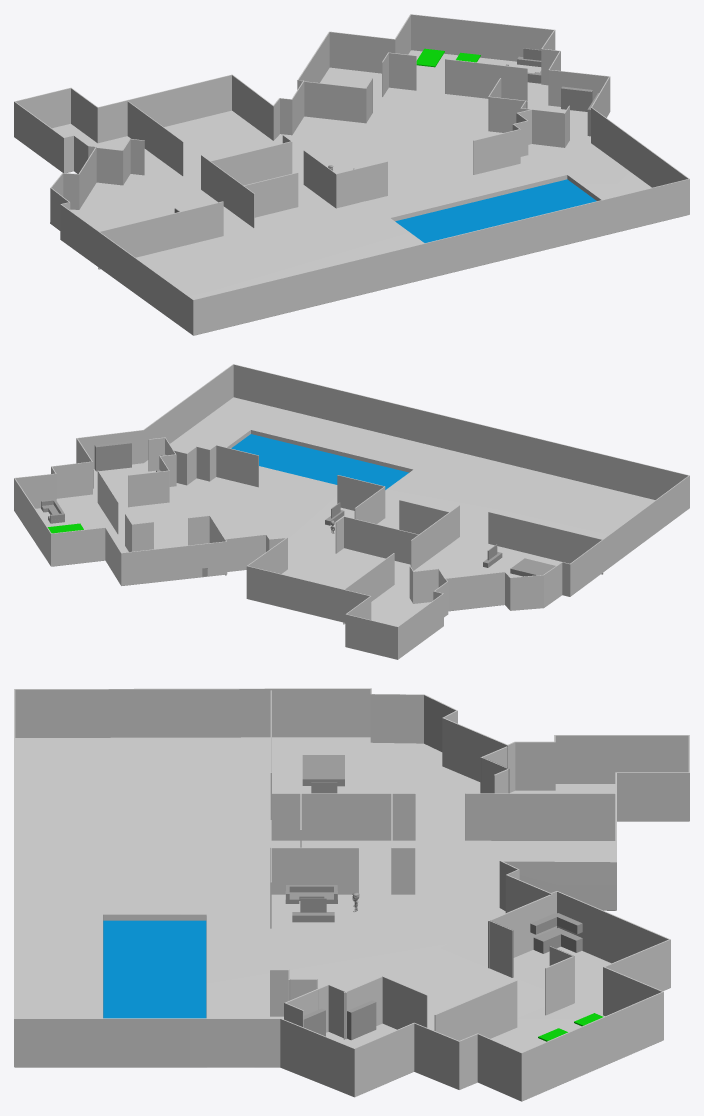
The model's file is Villa_03.fbx.
3 views of the same model, one above another, from view 1: azimuth 30°, elevation 25°; view 2: azimuth 150°, elevation 25°; view 3: azimuth 270°, elevation 25° (orthographic). The views are drawn at different scales.
Parts seen in each view (by area): view 1: outer_walls, pPlane1, pCube21, pCube7, pCube27, pCube20, pCube25, pCube22, pCube18, pCube19, pCube15, pCube24 (+6 smaller); view 2: outer_walls, pPlane1, pCube21, pPlane2, pCube20, pCube22, pCube15, pCube8, pCube25, pCube19, pCube62, pCube18 (+8 smaller); view 3: outer_walls, pPlane2, pCube25, pCube22, pPlane1, pCube24, pCube7, pCube8, pCube27, pCube6, pCube57, pCube26 (+6 smaller).
Boxes of the visible parts, <box> form: outer_walls: <box>14,14,689,335</box>; pPlane1: <box>395,179,596,242</box>; pCube21: <box>98,201,223,269</box>; pCube7: <box>445,59,527,100</box>; pCube27: <box>300,81,366,123</box>; pCube20: <box>210,141,291,185</box>; pCube25: <box>127,101,183,175</box>; pCube22: <box>201,155,254,227</box>; pCube18: <box>336,161,387,207</box>; pCube19: <box>242,172,298,220</box>; pCube15: <box>473,129,520,174</box>; pCube24: <box>303,150,336,208</box>; outer_walls: <box>14,364,689,659</box>; pPlane1: <box>231,434,408,489</box>; pCube21: <box>488,512,603,574</box>; pPlane2: <box>233,435,407,489</box>; pCube20: <box>344,516,418,564</box>; pCube22: <box>410,505,459,570</box>; pCube15: <box>216,445,258,487</box>; pCube8: <box>128,470,169,507</box>; pCube25: <box>343,553,394,624</box>; pCube19: <box>399,500,450,543</box>; pCube62: <box>94,441,131,471</box>; pCube18: <box>337,475,384,510</box>; outer_walls: <box>14,688,689,1101</box>; pPlane2: <box>103,920,206,1018</box>; pCube25: <box>465,793,615,840</box>; pCube22: <box>271,793,415,840</box>; pPlane1: <box>103,953,206,1018</box>; pCube24: <box>270,847,358,894</box>; pCube7: <box>434,980,517,1040</box>; pCube8: <box>382,976,427,1029</box>; pCube27: <box>488,894,553,968</box>; pCube6: <box>545,956,573,1015</box>; pCube57: <box>302,755,344,786</box>; pCube26: <box>489,920,513,977</box>.
Size of the model in its own units: 4851 by 728 by 3796.
